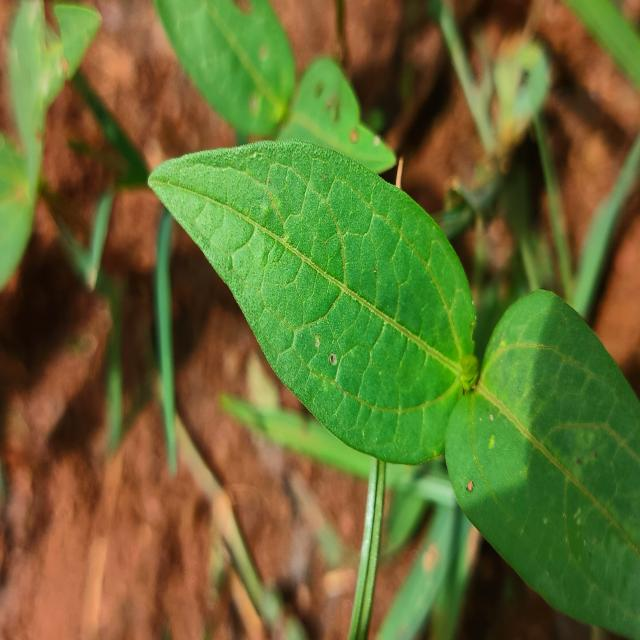Black gram_healthy: (149, 139, 486, 464)
